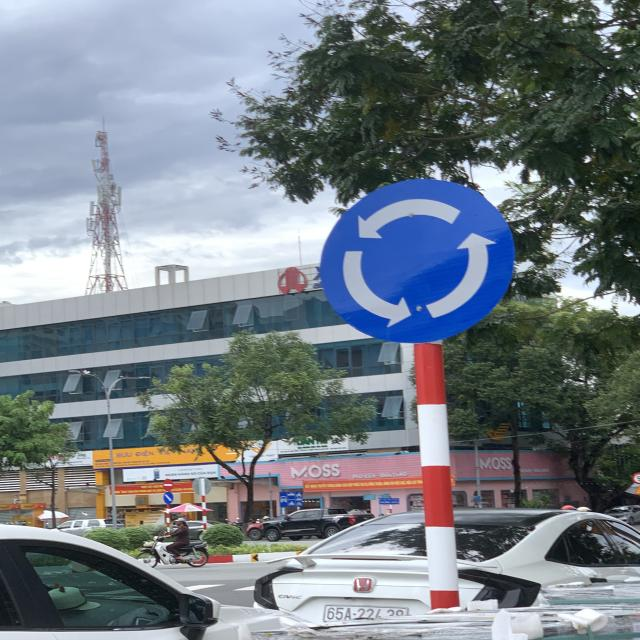Xe_Bus: (318, 172, 516, 345)
